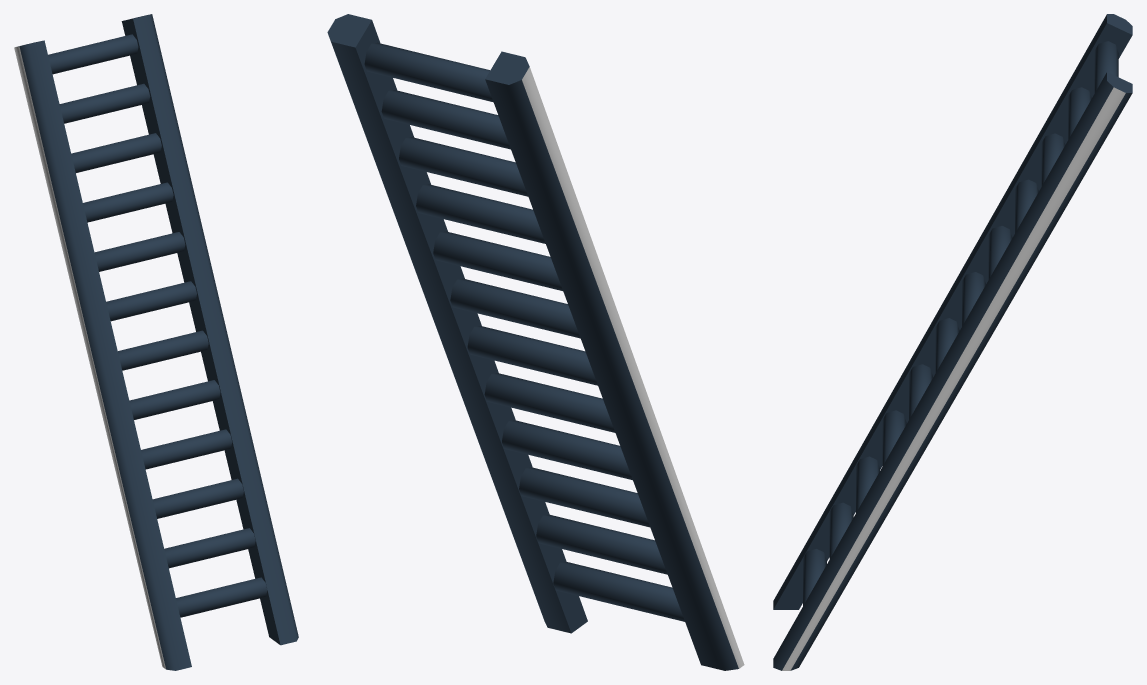
File: Stairway.fbx
The picture shows the model from 3 angles, left to right: view 1: azimuth 30°, elevation 25°; view 2: azimuth 150°, elevation 25°; view 3: azimuth 270°, elevation 25°; orthographic projection. The views are drawn at different scales.
Visible parts, largest first — view 1: Stairway; view 2: Stairway; view 3: Stairway.
Part boxes in pixels (box(x1,y1,x2,y2)): Stairway: box(14, 14, 298, 670); Stairway: box(327, 14, 744, 670); Stairway: box(773, 14, 1132, 670).
Size of the model in its own units: 1.2 by 4.48 by 2.49.
